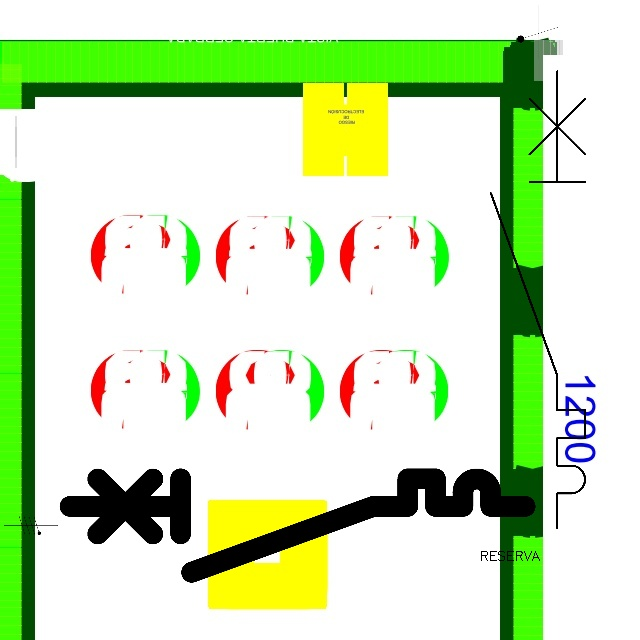interruptor_termomagnetico: (479, 59, 597, 540), (58, 467, 537, 584)
